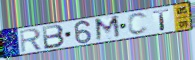6: (73, 20, 93, 45)
B: (41, 24, 66, 51)
C: (127, 12, 150, 36)
M: (94, 14, 123, 43)
R: (19, 27, 44, 54)
T: (152, 8, 171, 32)
